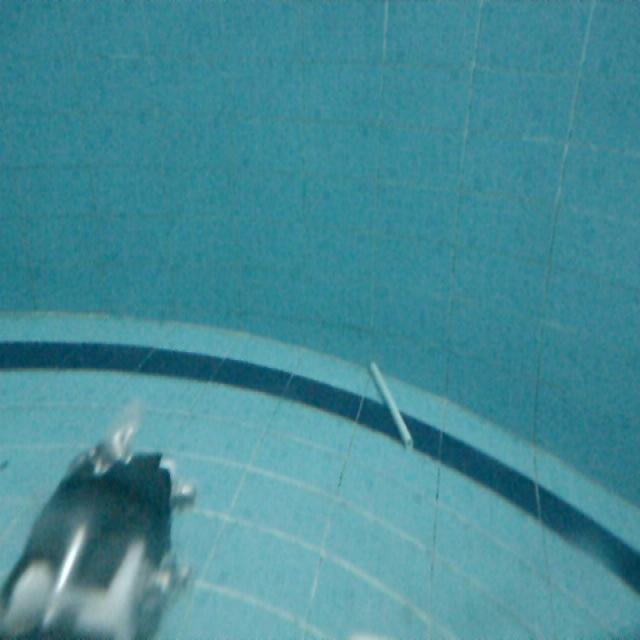Cube: (367, 360, 417, 457)
